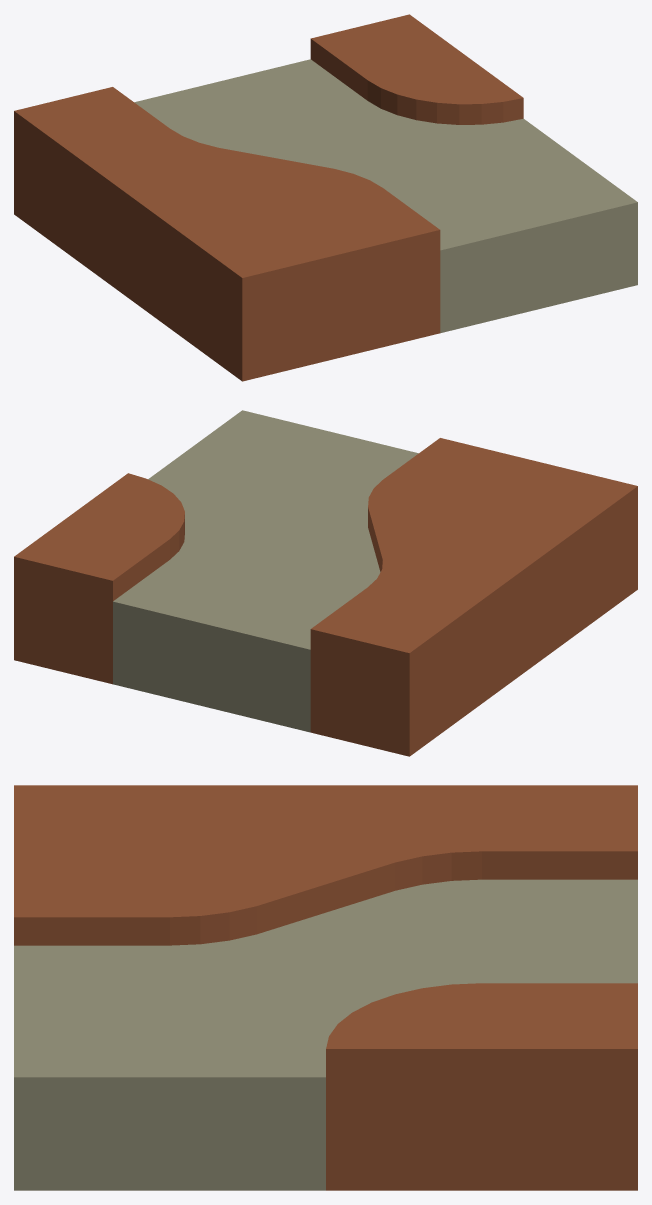
Rendered from Floor-Outdoor-4x4x1-Path-Narrow-To-Wide-Right.FBX.
3 views of the same model, one above another, from view 1: azimuth 30°, elevation 25°; view 2: azimuth 150°, elevation 25°; view 3: azimuth 270°, elevation 25° (orthographic). The views are drawn at different scales.
Parts seen in each view (by area): view 1: Floor-Outdoor-4x4x1-Path-Narrow-To-Wide-Right; view 2: Floor-Outdoor-4x4x1-Path-Narrow-To-Wide-Right; view 3: Floor-Outdoor-4x4x1-Path-Narrow-To-Wide-Right.
Part boxes in pixels (<box>): Floor-Outdoor-4x4x1-Path-Narrow-To-Wide-Right: <box>14,14,637,381</box>; Floor-Outdoor-4x4x1-Path-Narrow-To-Wide-Right: <box>14,410,637,756</box>; Floor-Outdoor-4x4x1-Path-Narrow-To-Wide-Right: <box>14,785,637,1190</box>.
Bounding box in the file's own units: 40 × 40 × 10.
